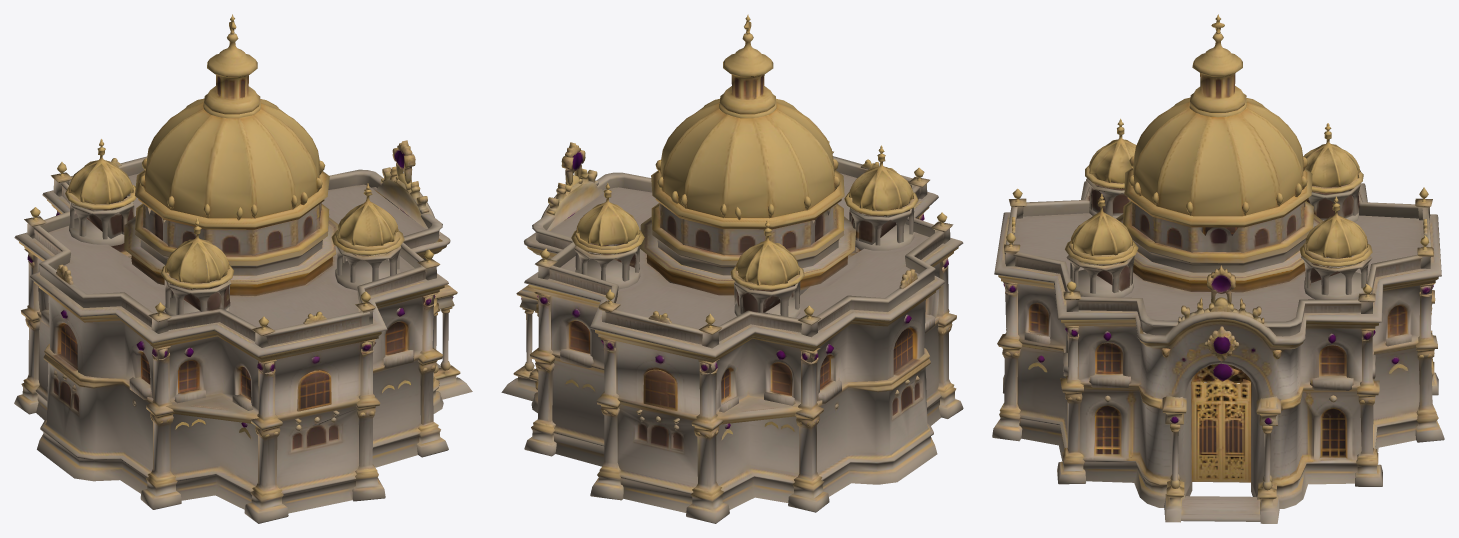
The model's file is royal-palace.glb.
The picture shows the model from 3 angles, left to right: view 1: azimuth 30°, elevation 25°; view 2: azimuth 150°, elevation 25°; view 3: azimuth 270°, elevation 25°; orthographic projection.
Visible parts, largest first — view 1: tripo_node_c53e1c04-fe42-4abd-bbbe-05c9a9b353d8; view 2: tripo_node_c53e1c04-fe42-4abd-bbbe-05c9a9b353d8; view 3: tripo_node_c53e1c04-fe42-4abd-bbbe-05c9a9b353d8.
Boxes of the visible parts, x1,y1,x2,y2 form: tripo_node_c53e1c04-fe42-4abd-bbbe-05c9a9b353d8: (14,14,472,523); tripo_node_c53e1c04-fe42-4abd-bbbe-05c9a9b353d8: (501,14,963,523); tripo_node_c53e1c04-fe42-4abd-bbbe-05c9a9b353d8: (992,14,1444,523).
Size of the model in its own units: 0.9878 by 0.9907 by 0.9995.
Materials: 1 (1 with a texture image).
